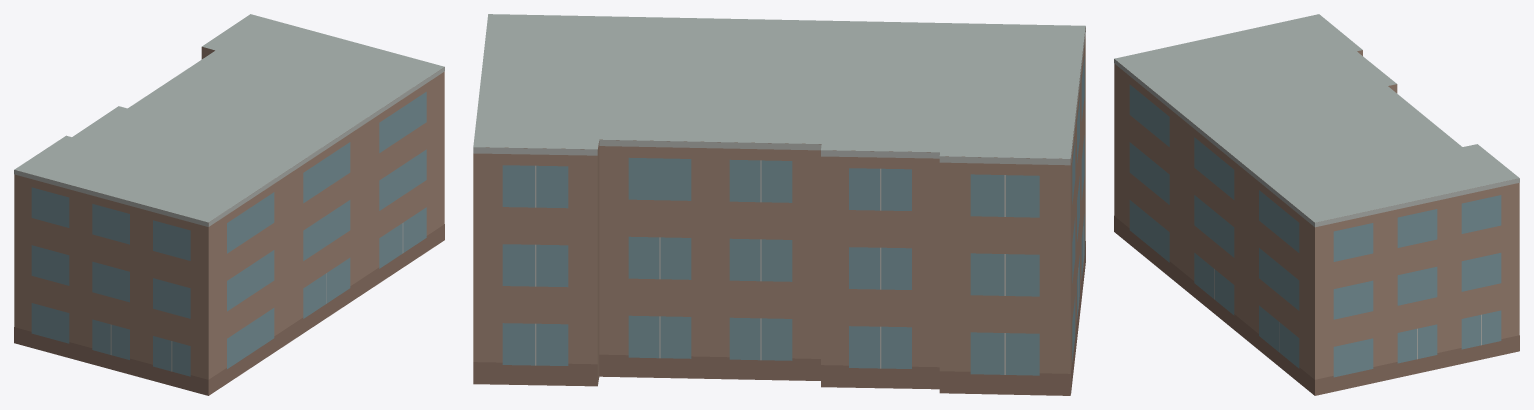
The model's file is survey-upis-32834795.glb.
3 renders of one model, left to right at view 1: azimuth 30°, elevation 25°; view 2: azimuth 150°, elevation 25°; view 3: azimuth 270°, elevation 25°, orthographic. The views are drawn at different scales.
Visible parts, largest first — view 1: survey-upis-32834795.tmp; view 2: survey-upis-32834795.tmp; view 3: survey-upis-32834795.tmp.
Part boxes in pixels (x1,y1,x2,y2): survey-upis-32834795.tmp: (14,14,444,395); survey-upis-32834795.tmp: (473,14,1085,395); survey-upis-32834795.tmp: (1114,14,1519,395).
Size of the model in its own units: 23.67 by 9.15 by 19.44.
